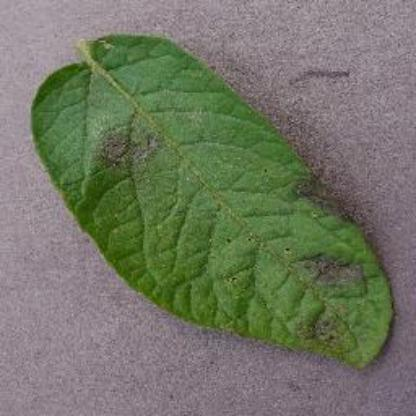Late-Blight: (14, 7, 406, 392)
